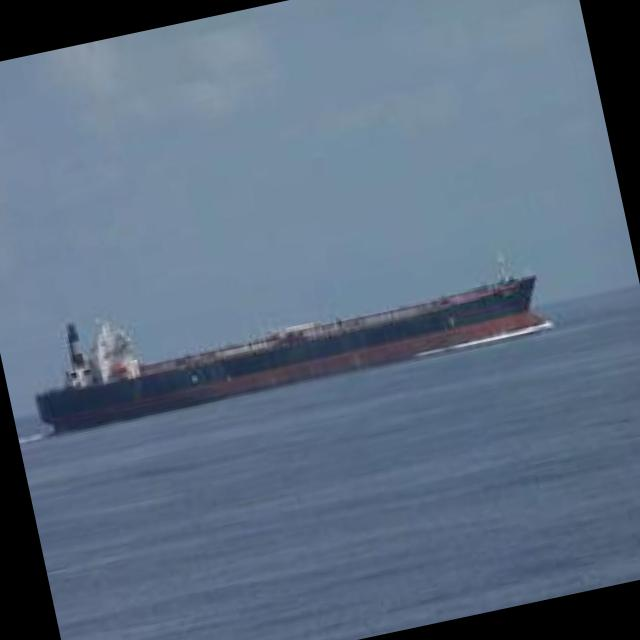boat: (11, 220, 558, 438)
